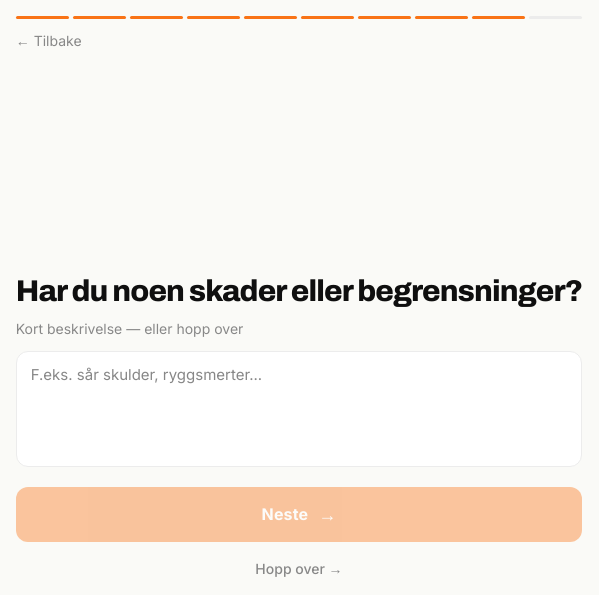
Test case: OnboardingWizard — optional and done › skip on injury step advances to preferences
This screenshot has width=599, height=595.
Click the button "Hopp over →". click: coordinates (299, 568)
box: [255,558,343,579]
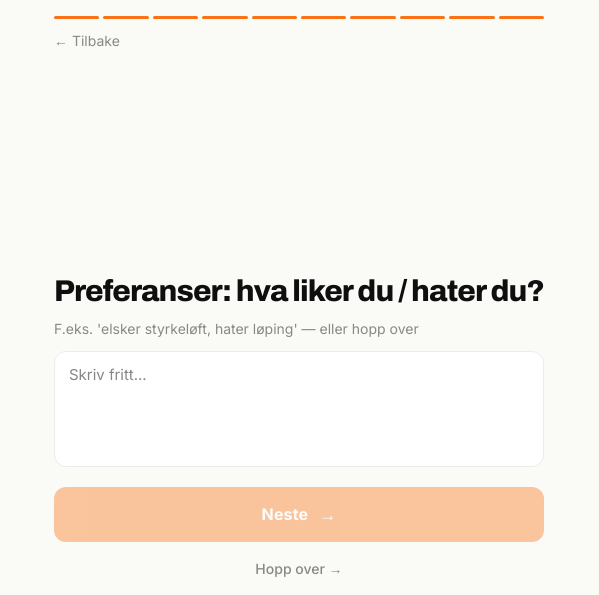
Check: the heading "Preferanser: hva liker du / hater du?" is shown, box [54,278,544,306]
